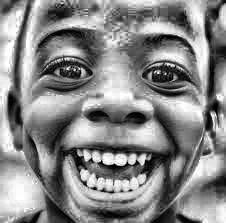happy: (9, 1, 221, 223)
